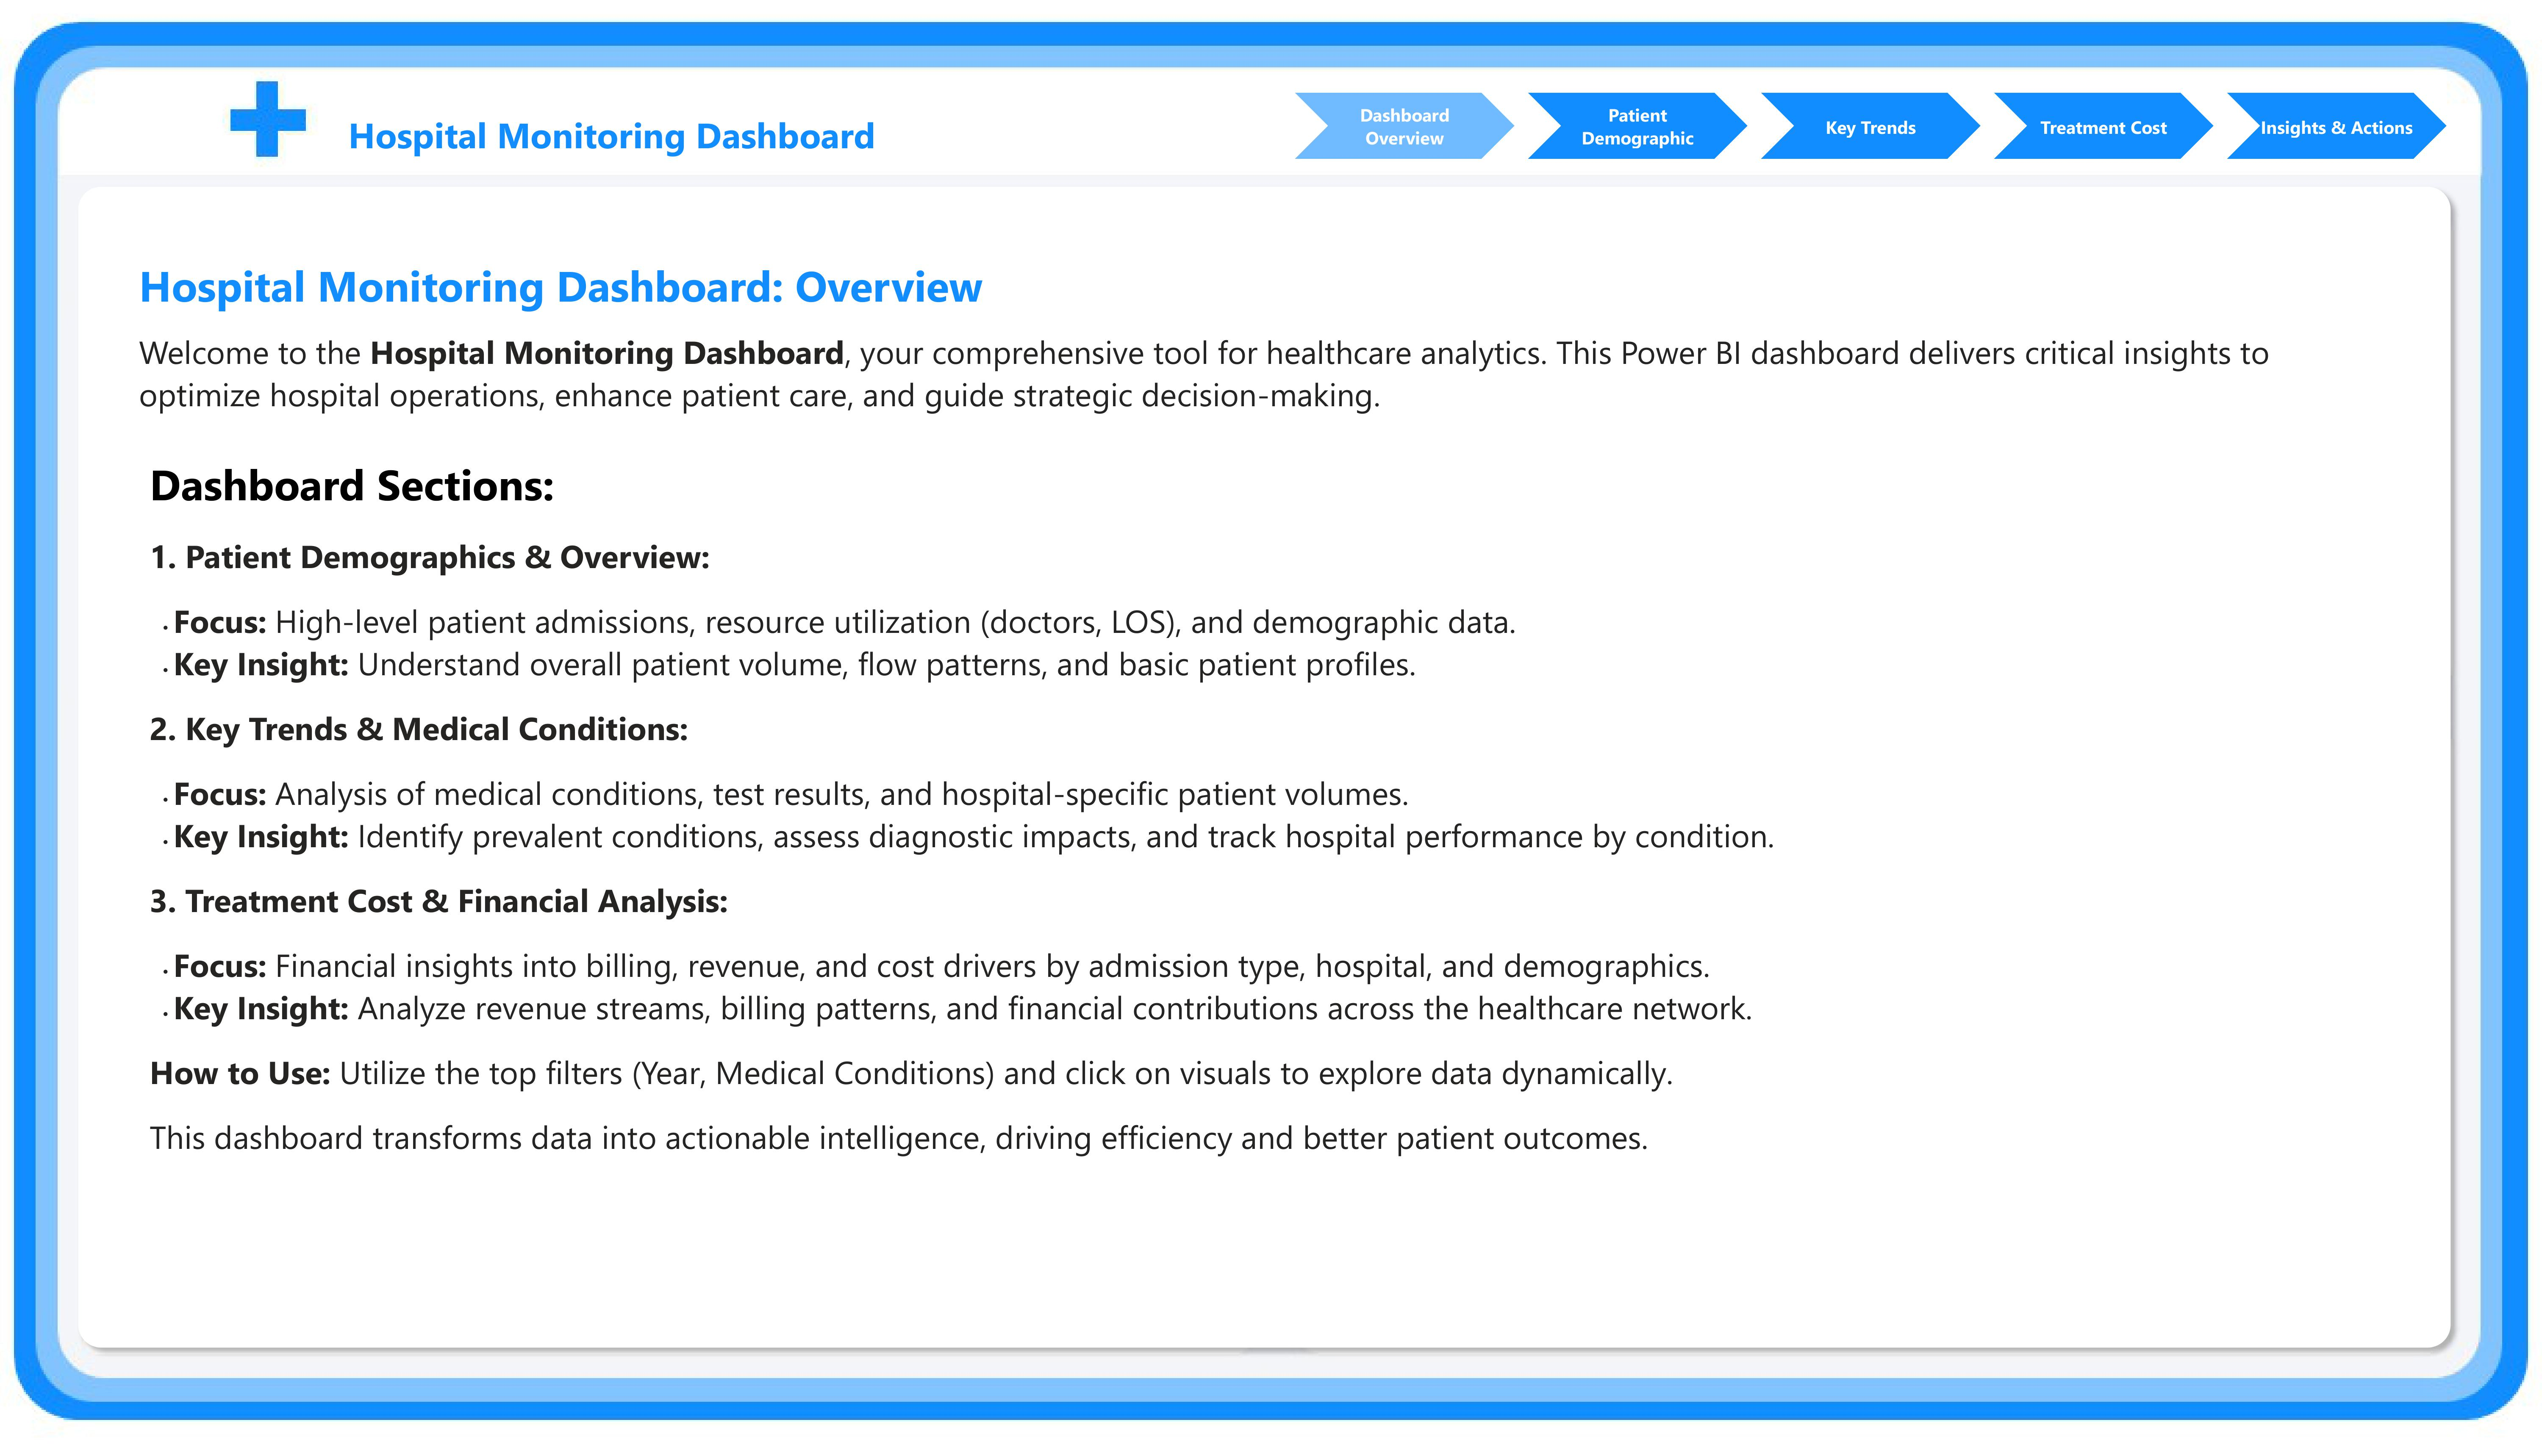

The page's visual inventory and layout, read from the dashboard file:
{"tool":"powerbi","page":{"name":"Dashboard Overview","canvas":[1920,1080],"ordinal":0},"visuals":[{"type":"textbox","box":[258.8,68.8,431.2,53.8],"z":0},{"type":"shape","box":[50,122.5,1810,895],"z":1000},{"type":"pageNavigator","box":[977.5,60,870,50],"z":2000},{"type":"textbox","box":[100,177.5,667.5,56.2],"z":3000},{"type":"textbox","box":[100,233.8,1701.2,75],"z":4000},{"type":"textbox","box":[108.8,327.5,1738.8,680],"z":5000}]}

Visuals, with their boxes in screenshot pixels (x1, y1, x2, y2), scaled from the page's 1920x1080 canvas onto the 2542x1456 screenshot:
textbox: (343, 93, 913, 165)
shape: (66, 165, 2462, 1372)
pageNavigator: (1294, 81, 2446, 148)
textbox: (132, 239, 1016, 315)
textbox: (132, 315, 2385, 416)
textbox: (144, 441, 2446, 1358)
